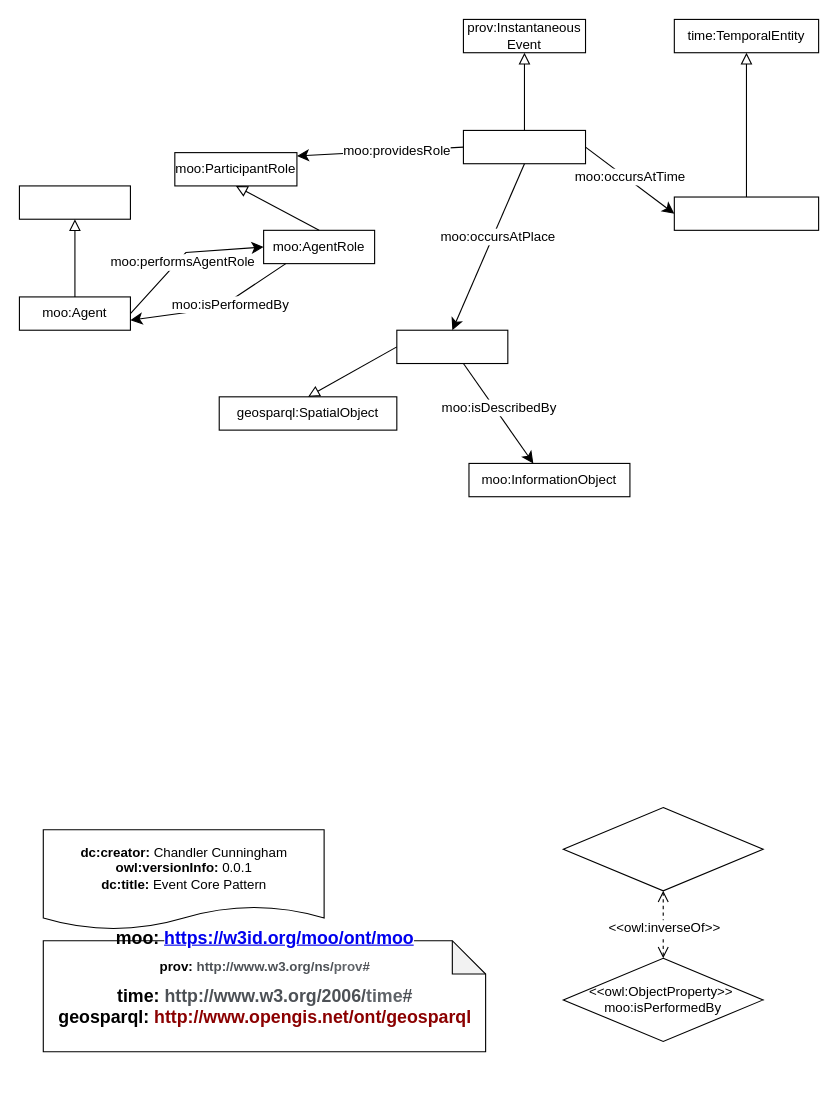
The diagram is 838 pixels wide and 1103 high, and some of its shapes have lost their labels. The shapes that lost their labels are listed below. From the top down, each one's box as (x1, y1, x2, y2) in pixels, then its label:
(462, 129, 586, 164): moo:Event
(18, 185, 130, 219): prov:Agent
(673, 196, 819, 230): moo:TimeEntity
(396, 329, 508, 364): moo:Place
(562, 806, 763, 891): <<owl:ObjectProperty>> moo:performsAgentRole
